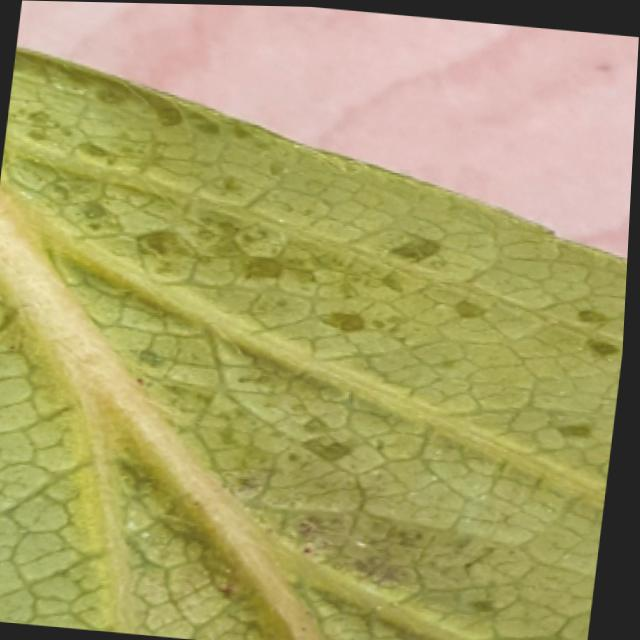Angular Leafspot: (0, 43, 628, 640)
